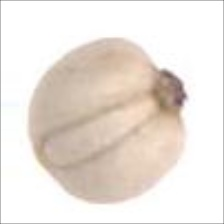L5: (37, 88, 165, 172), (152, 65, 189, 119)
L6: (24, 35, 189, 204)
